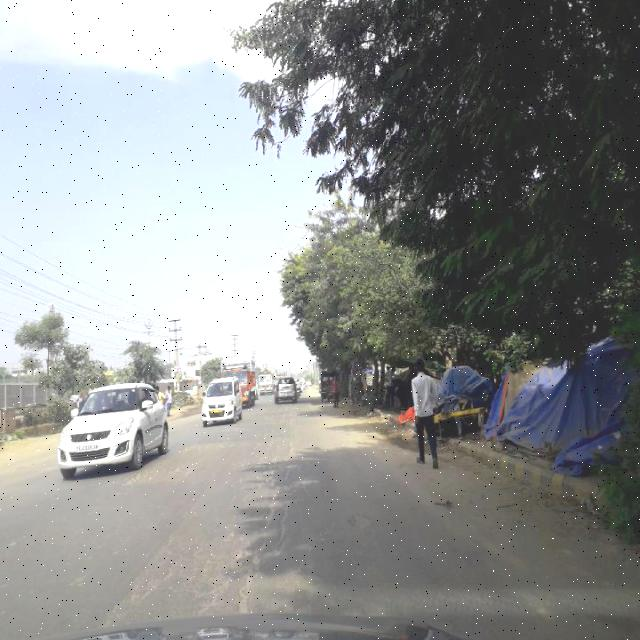D00: (239, 435, 298, 609)
D20: (121, 503, 253, 621), (146, 449, 217, 480)
